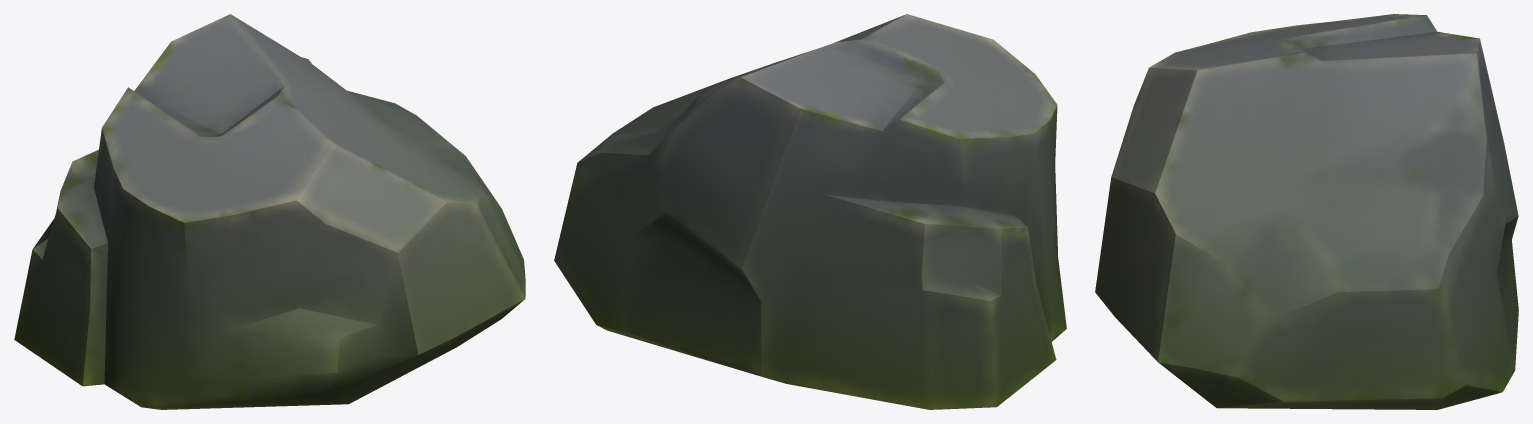
Rendered from rock_medium_2.glb.
3 renders of one model, left to right at view 1: azimuth 30°, elevation 25°; view 2: azimuth 150°, elevation 25°; view 3: azimuth 270°, elevation 25°, orthographic. The views are drawn at different scales.
Size of the model in its own units: 3.05 by 1.9 by 2.48.
1 material, 1 textured.
